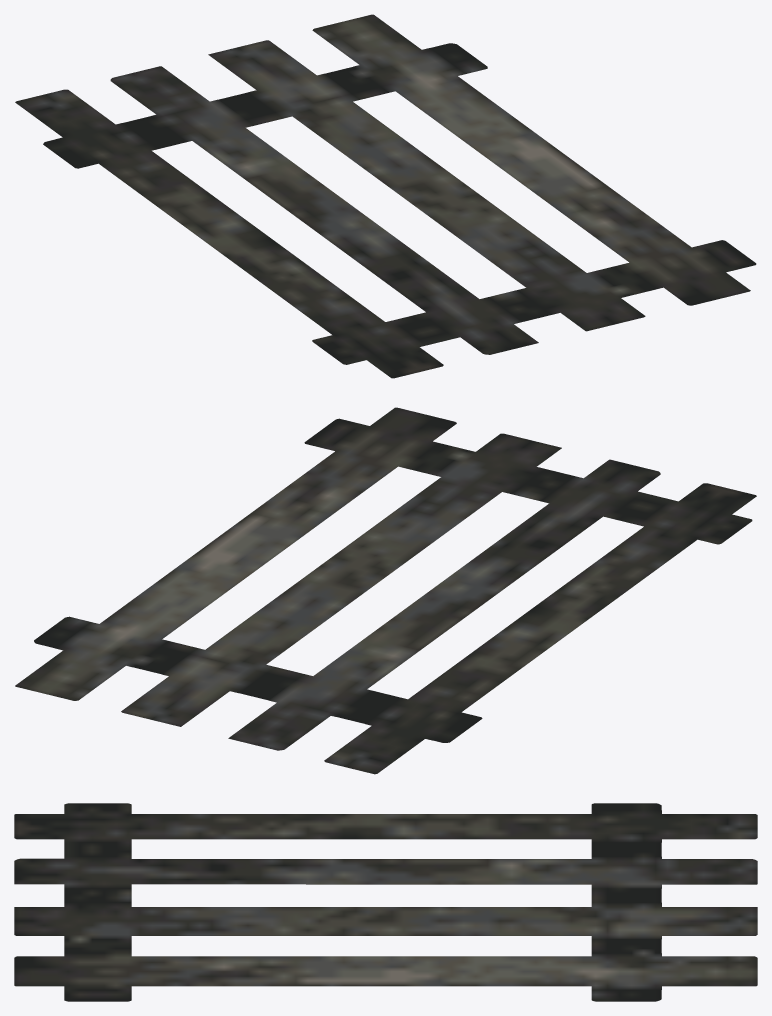
Rendered from SM_EC_Fence_Card_04.001.fbx.
3 views of the same model, one above another, from view 1: azimuth 30°, elevation 25°; view 2: azimuth 150°, elevation 25°; view 3: azimuth 270°, elevation 25° (orthographic). The views are drawn at different scales.
Visible parts, largest first — view 1: SM_EC_Fence_Card_04.001; view 2: SM_EC_Fence_Card_04.001; view 3: SM_EC_Fence_Card_04.001.
Boxes of the visible parts, <box> form: SM_EC_Fence_Card_04.001: <box>15,14,756,378</box>; SM_EC_Fence_Card_04.001: <box>15,407,756,774</box>; SM_EC_Fence_Card_04.001: <box>14,803,757,1001</box>.
Bounding box in the file's own units: 0.6713 × 1.07 × 0.
